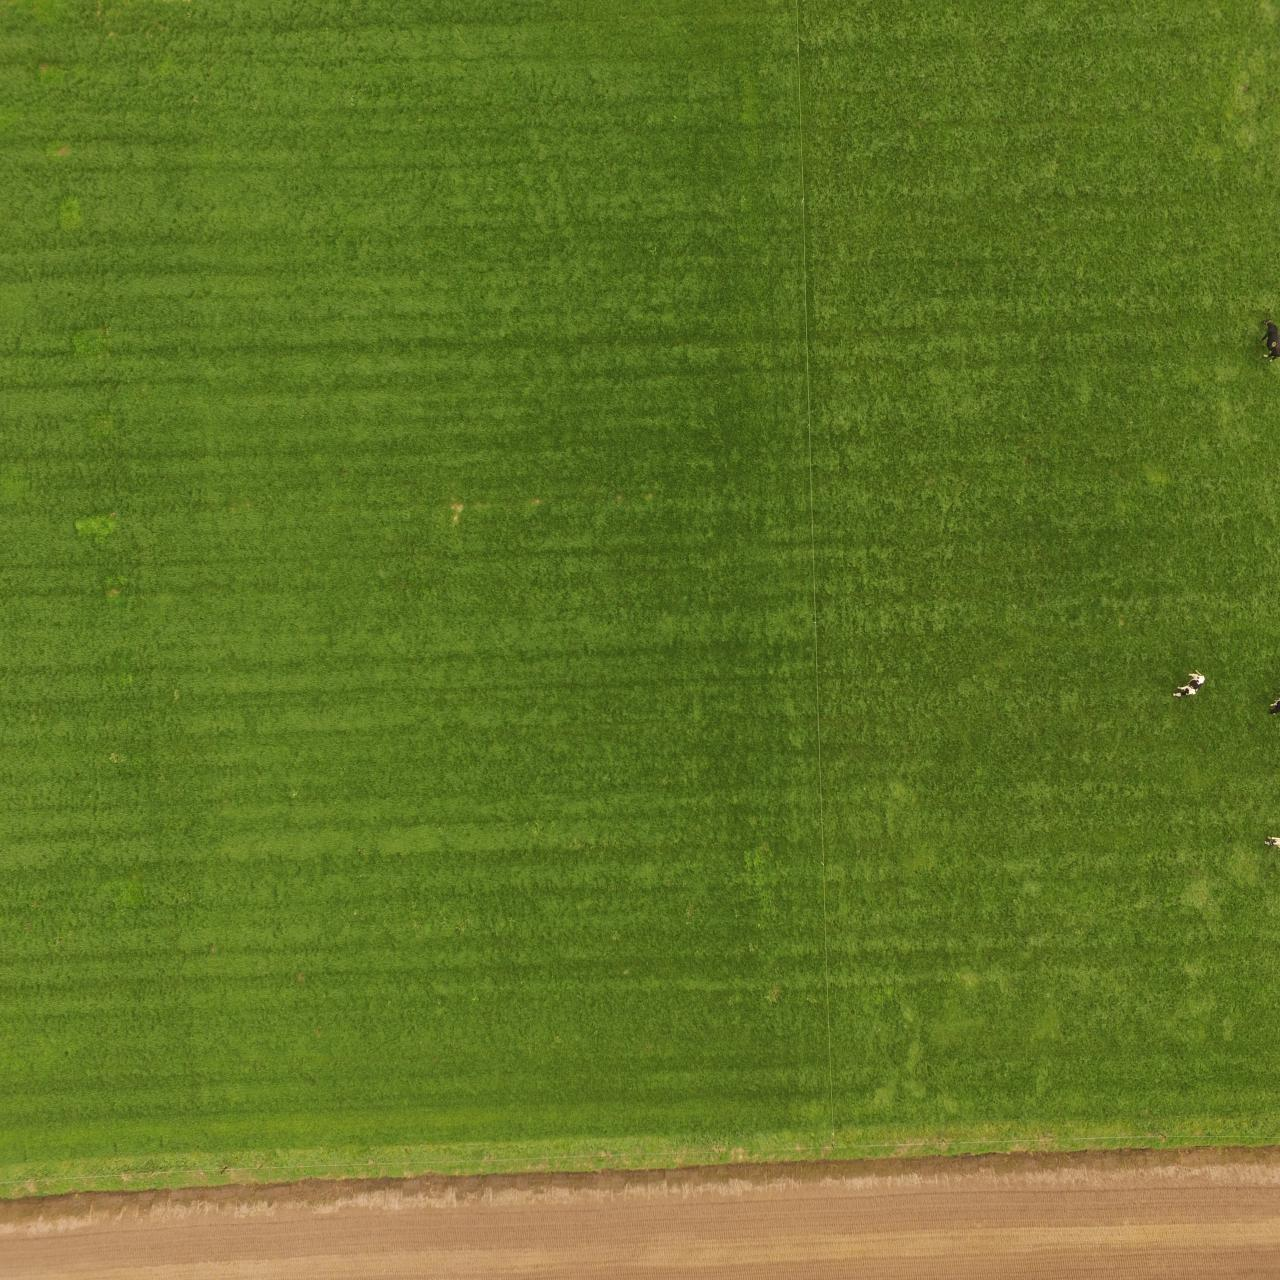cow: (1173, 667, 1207, 700)
